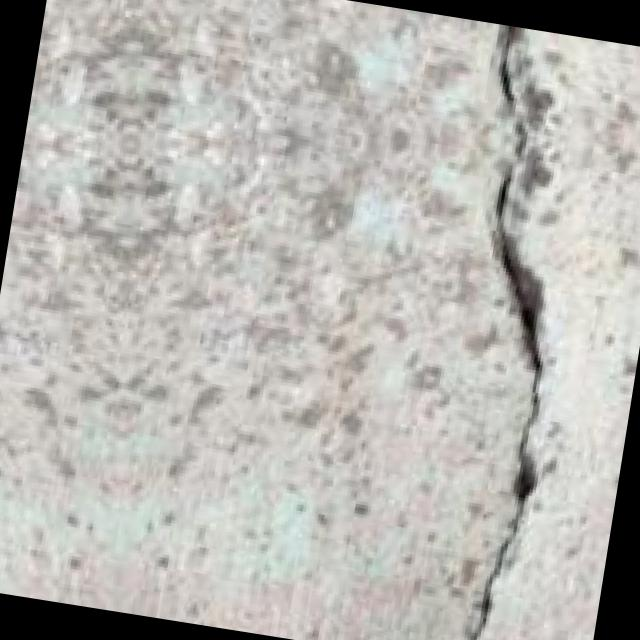crack: (366, 19, 640, 640)
